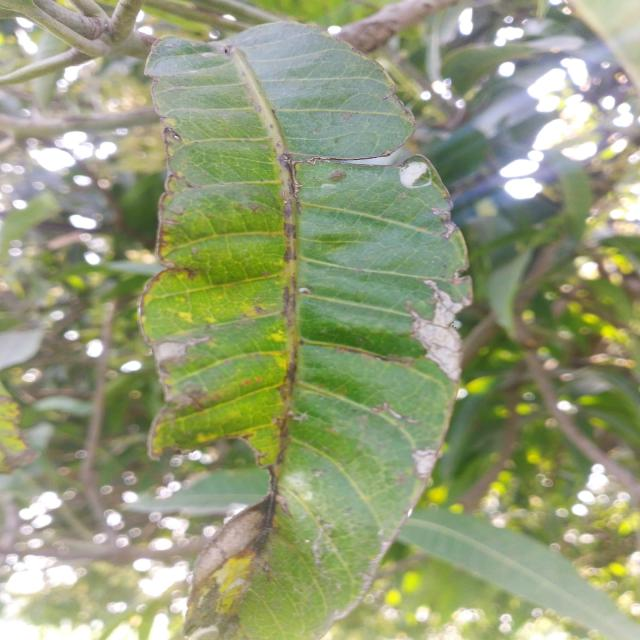Powdery Mildew: (420, 318, 466, 379), (399, 160, 431, 186), (416, 446, 435, 478), (157, 346, 181, 359)
